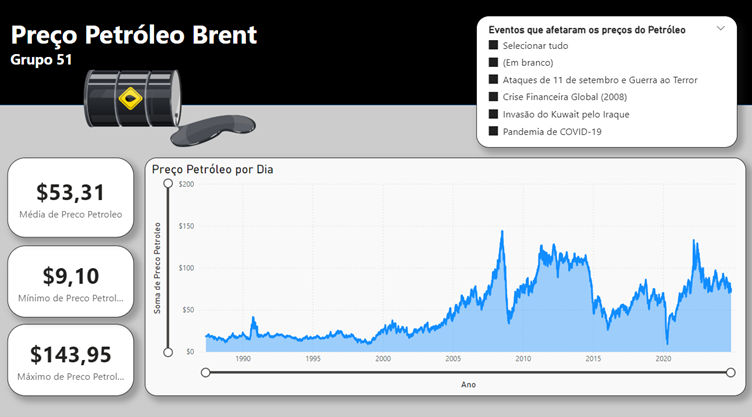

Layout of this report page (visuals, bound fields, positions):
{"tool":"powerbi","page":{"name":"Página 1","canvas":[1280,720],"ordinal":0},"visuals":[{"type":"lineChart","title":"Preço Petróleo por Dia","fields":{"Y":["Sum(PRECO_PETROLEO - Página1.Preco Petroleo)"],"Category":["PRECO_PETROLEO - Página1.Data.Variation.Hierarquia de datas.Ano","PRECO_PETROLEO - Página1.Data.Variation.Hierarquia de datas.Trimestre","PRECO_PETROLEO - Página1.Data.Variation.Hierarquia de datas.Mês","PRECO_PETROLEO - Página1.Data.Variation.Hierarquia de datas.Dia"]},"box":[249.7,269,1011.3,400.7],"z":0},{"type":"card","fields":{"Values":["Max(PRECO_PETROLEO - Página1.Preco Petroleo)"]},"box":[17.8,548.9,212.7,120.8],"z":1000},{"type":"card","fields":{"Values":["Min(PRECO_PETROLEO - Página1.Preco Petroleo)"]},"box":[17.8,417.2,212.7,120.8],"z":2000},{"type":"card","fields":{"Values":["Avg(PRECO_PETROLEO - Página1.Preco Petroleo)"]},"box":[17.8,269,212.7,134.5],"z":3000},{"type":"shape","box":[0,0,1280.3,181.1],"z":4000},{"type":"textbox","title":"Preço Petróleo","box":[18.3,25.7,440.2,116.2],"z":5000},{"type":"slicer","fields":{"Values":["Página1.Eventos"]},"box":[807.1,30.6,439,221.3],"z":6000},{"type":"image","box":[141.8,36.7,299.6,299.6],"z":7000}]}

Visuals, with their boxes in screenshot pixels (x1, y1, x2, y2), scaled from the page's 1280x720 canvas onto the 752x417 screenshot:
"Preço Petróleo por Dia" lineChart: bbox=[147, 156, 741, 388]
card - Max(PRECO_PETROLEO - Página1.Preco Petroleo): bbox=[10, 318, 135, 388]
card - Min(PRECO_PETROLEO - Página1.Preco Petroleo): bbox=[10, 242, 135, 312]
card - Avg(PRECO_PETROLEO - Página1.Preco Petroleo): bbox=[10, 156, 135, 234]
shape: bbox=[0, 0, 751, 105]
"Preço Petróleo" textbox: bbox=[11, 15, 269, 82]
slicer - Página1.Eventos: bbox=[474, 18, 732, 146]
image: bbox=[83, 21, 259, 195]
